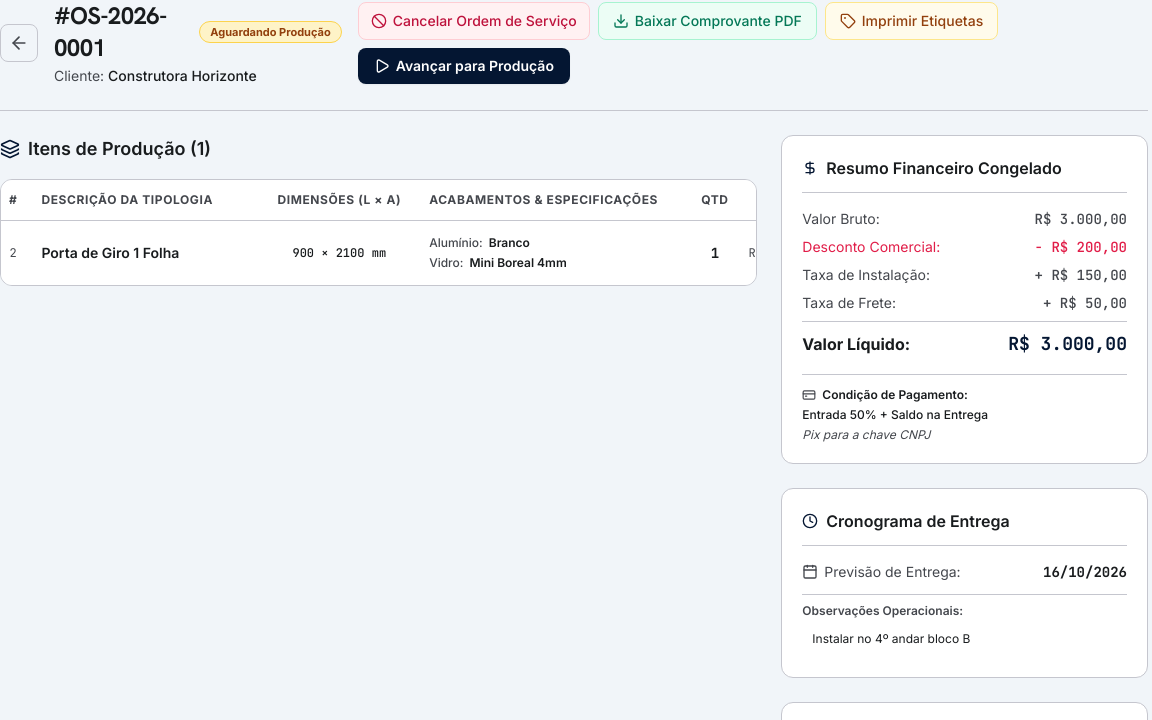
Test: OrderDetailPage — [US-13.5] Visualização Detalhada do Pedido de Venda › deve abrir o modal de cancelamento ao clicar no botão "Cancelar Ordem de Serviço"
Click the button "Cancelar Ordem de Serviço". click: (474,21)
box: [358,2,590,40]
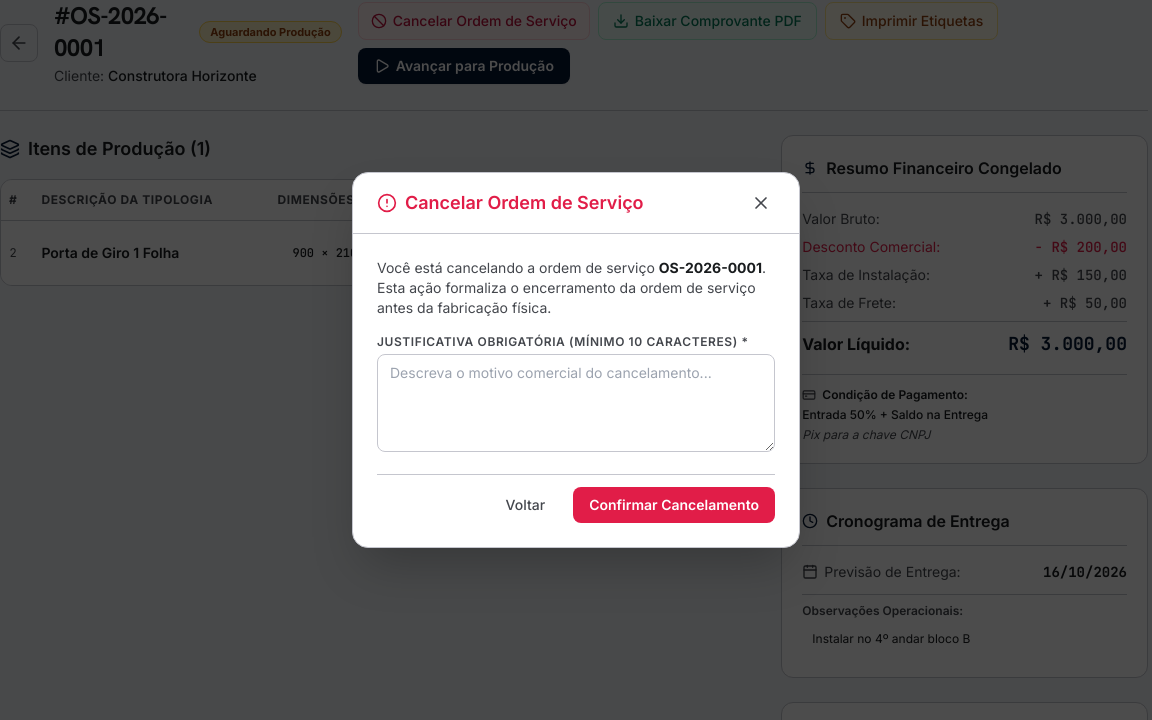
Expected: the element with test id "cancel-order-modal" is shown
